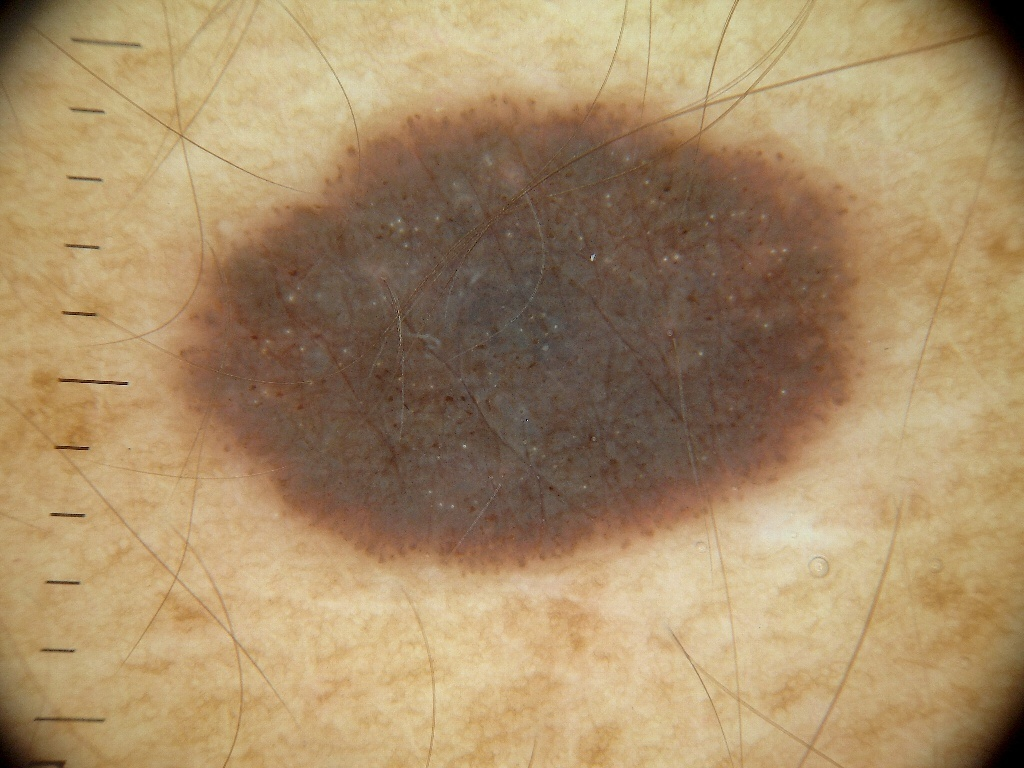Detected Lesion: (169, 93, 874, 575)
